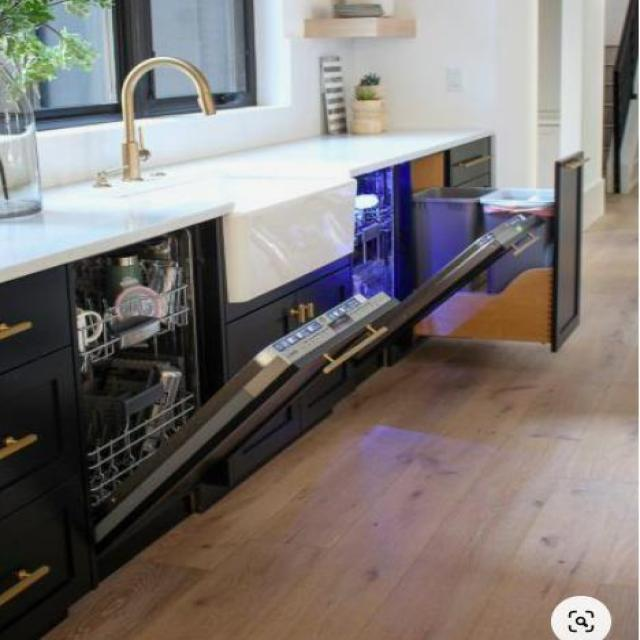dishwasher: (66, 165, 400, 554)
